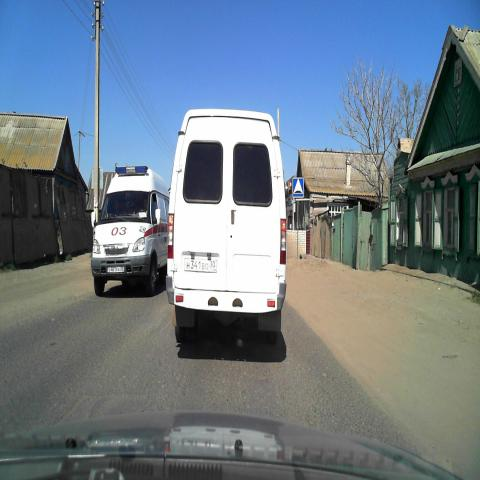5_20: (293, 178, 305, 198)
